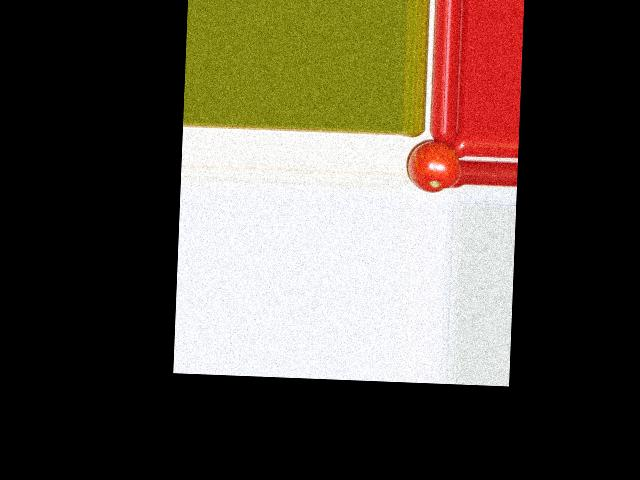tomato: (406, 139, 462, 194)
